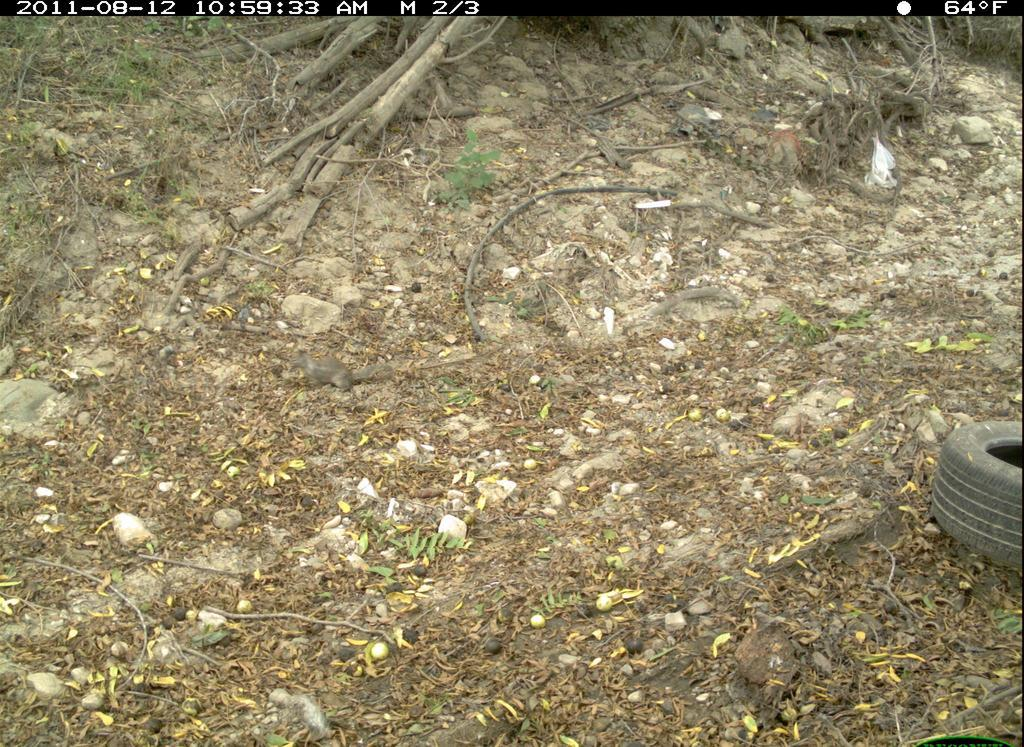squirrel: (283, 343, 401, 398)
